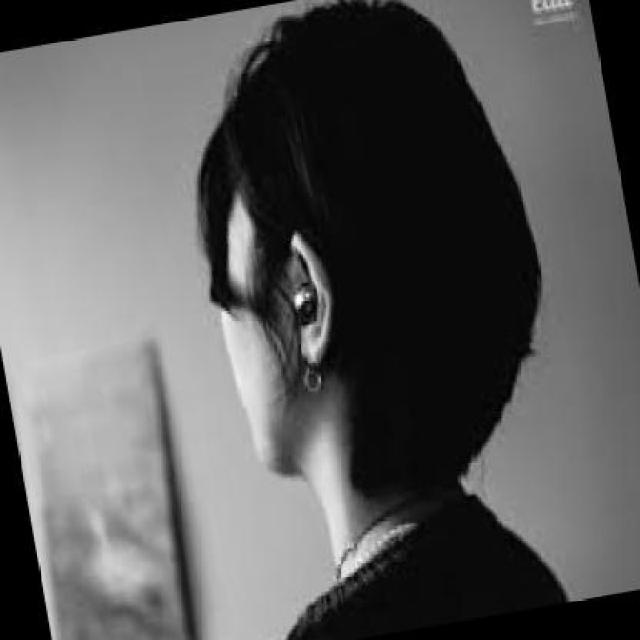earphone: (270, 277, 340, 355)
